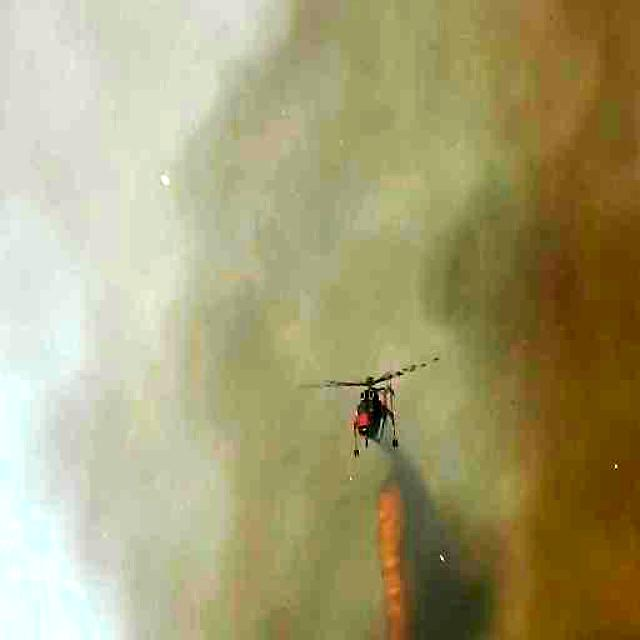drone: (329, 359, 438, 469)
